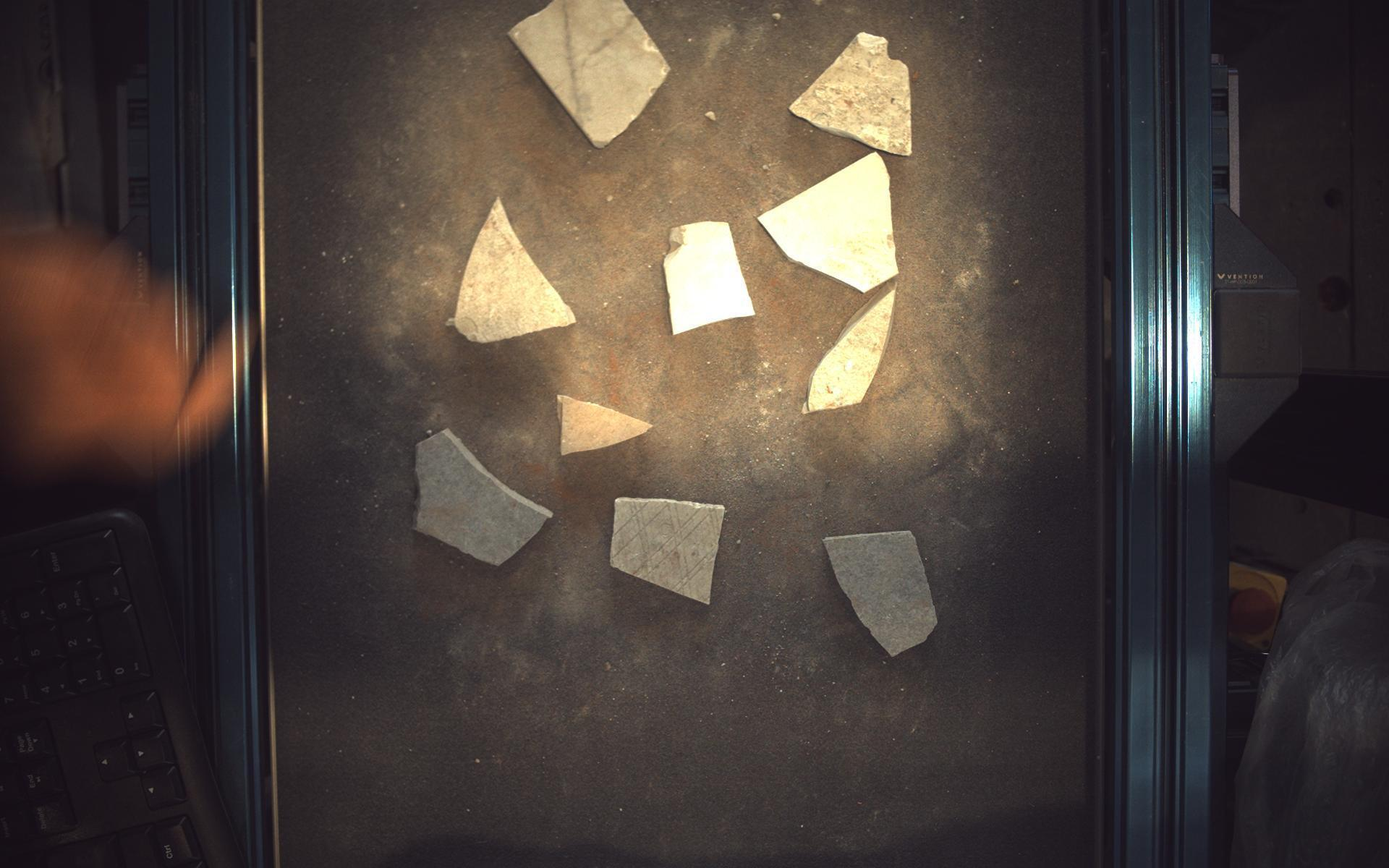tile: (509, 1, 670, 147), (759, 151, 900, 292), (446, 197, 576, 343), (415, 429, 553, 566), (791, 31, 914, 155), (825, 531, 939, 658), (611, 499, 726, 605), (806, 289, 897, 412), (664, 221, 756, 334), (558, 395, 653, 455)
